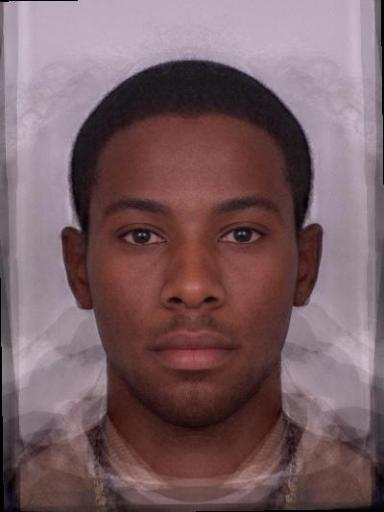left_eye: (218, 224, 271, 247)
left_lip_corner: (228, 342, 243, 357)
right_eye: (115, 225, 169, 249)
right_lip_corner: (145, 342, 161, 359)
